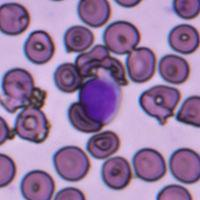L: (80, 77, 121, 124)
